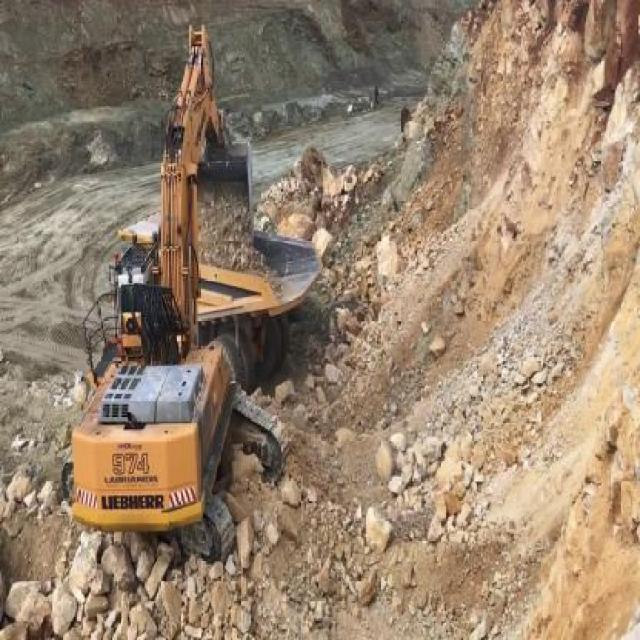Excavator: (63, 19, 295, 572)
